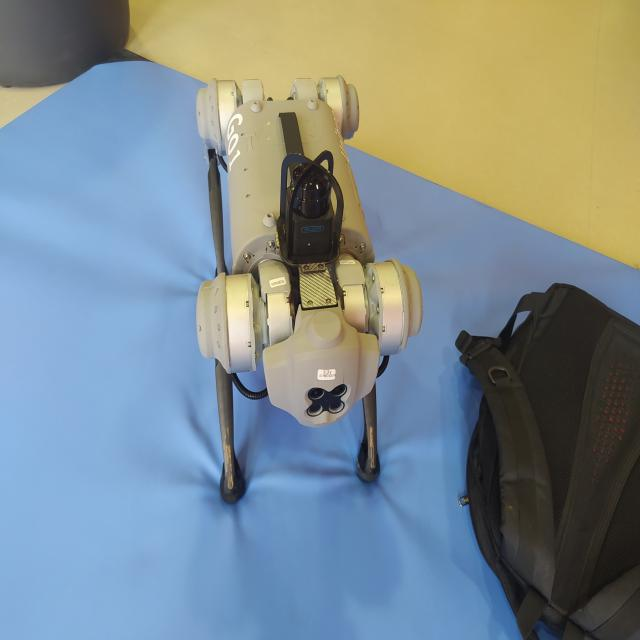unitree-go1-robot: (177, 63, 433, 524)
